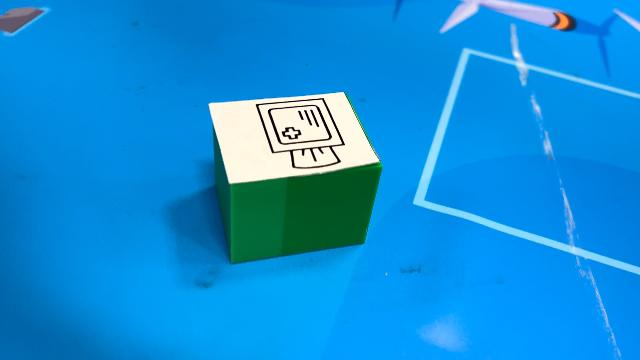napkin: (206, 89, 384, 264)
